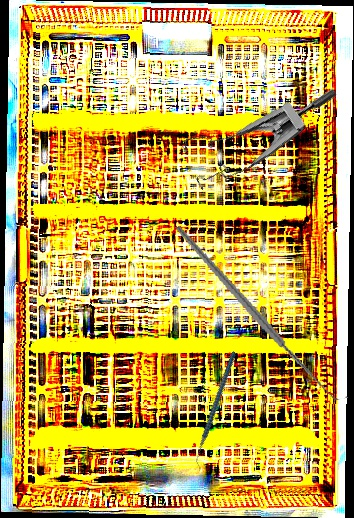Chopper: (162, 350, 271, 472)
Hook Surgical: (175, 199, 348, 426)
Speculum: (168, 40, 339, 212)
